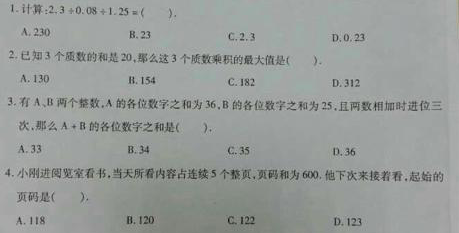text: (6, 95, 445, 112), (2, 167, 447, 183), (6, 48, 324, 69), (10, 213, 366, 231), (19, 26, 368, 44), (13, 142, 359, 158), (19, 74, 361, 87), (18, 119, 215, 135), (4, 2, 179, 20), (15, 188, 92, 204)
